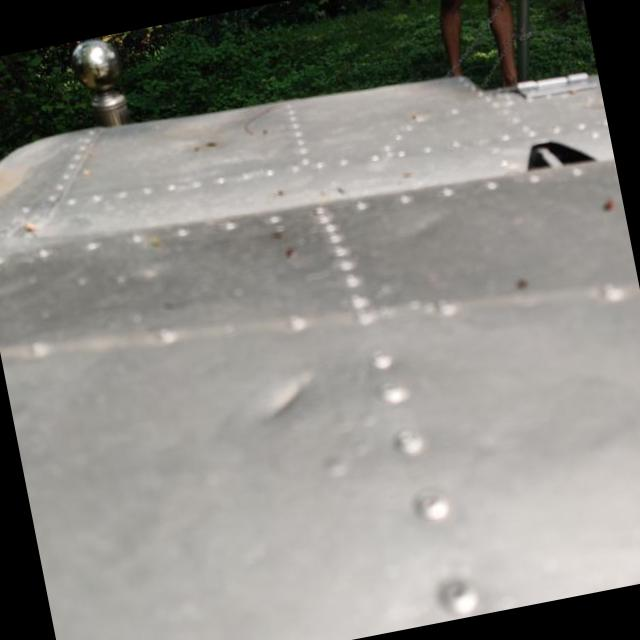Dent: (227, 341, 331, 439)
